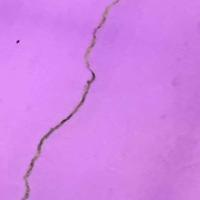crack: (21, 0, 116, 199)
